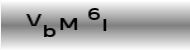6: (86, 7, 100, 20)
M: (58, 17, 77, 30)
V: (25, 12, 42, 26)
b: (43, 24, 55, 38)
l: (102, 17, 106, 31)
